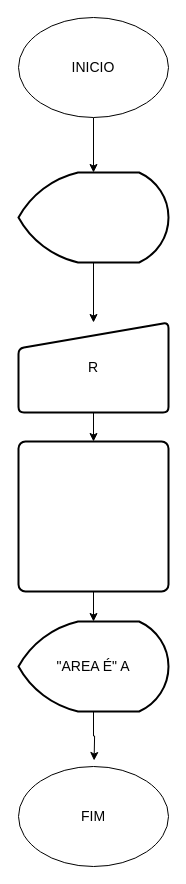
Image size: 186x884. Some labels were removed from this diagram. The shapes that lost their labels are listed below. From the top down, each one's centre as x and y in pixels, then its label:
At [93,217]: "INSIRA O VALOR DO RAIO".
At [93,516]: "A <- PI * R * R".
